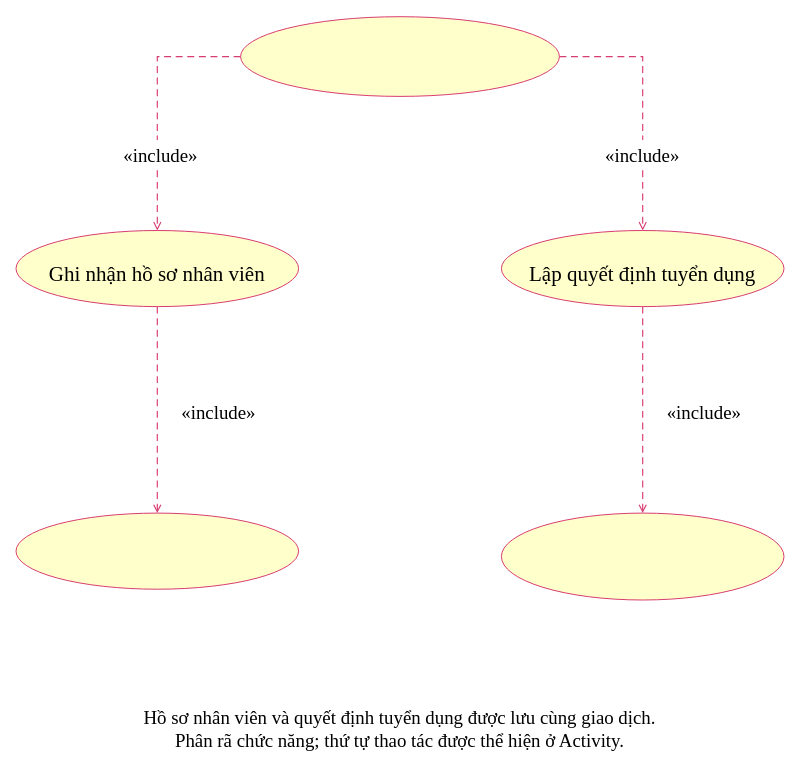
Image size: 800x767. Some labels were removed from this diagram. The shapes that lost their labels are listed below. From the top down, each one's centre as x and y in pixels, then its label:
At pixel 399 56: "Tiếp nhận thử việc".
At pixel 157 550: "Chọn phòng ban có nhu cầu".
At pixel 642 556: "Ghi thời gian, lương thử việc và điều khoản hai bên".
